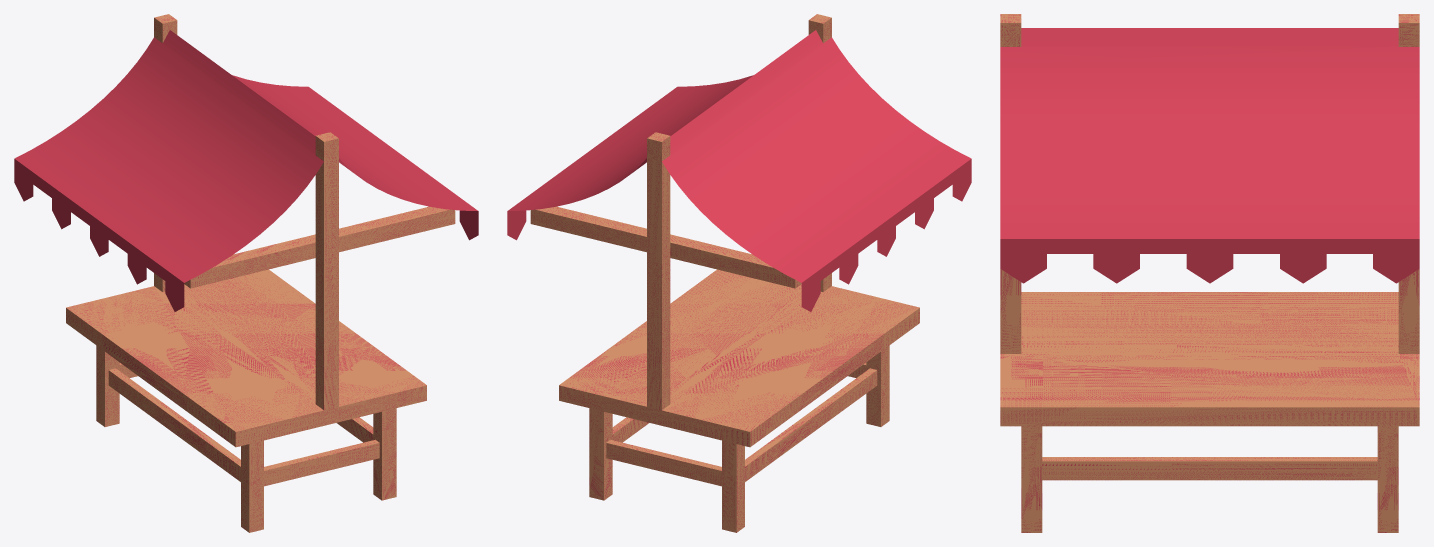
The model's file is stallRed.dae.
3 views of the same model, side by side, from view 1: azimuth 30°, elevation 25°; view 2: azimuth 150°, elevation 25°; view 3: azimuth 270°, elevation 25° (orthographic). The views are drawn at different scales.
Parts seen in each view (by area): view 1: stallRed; view 2: stallRed; view 3: stallRed.
Part boxes in pixels (x1,y1,x2,y2): stallRed: (14,14,478,532); stallRed: (507,14,971,532); stallRed: (1000,14,1419,532).
Bounding box in the file's own units: 1 × 1.24 × 1.
